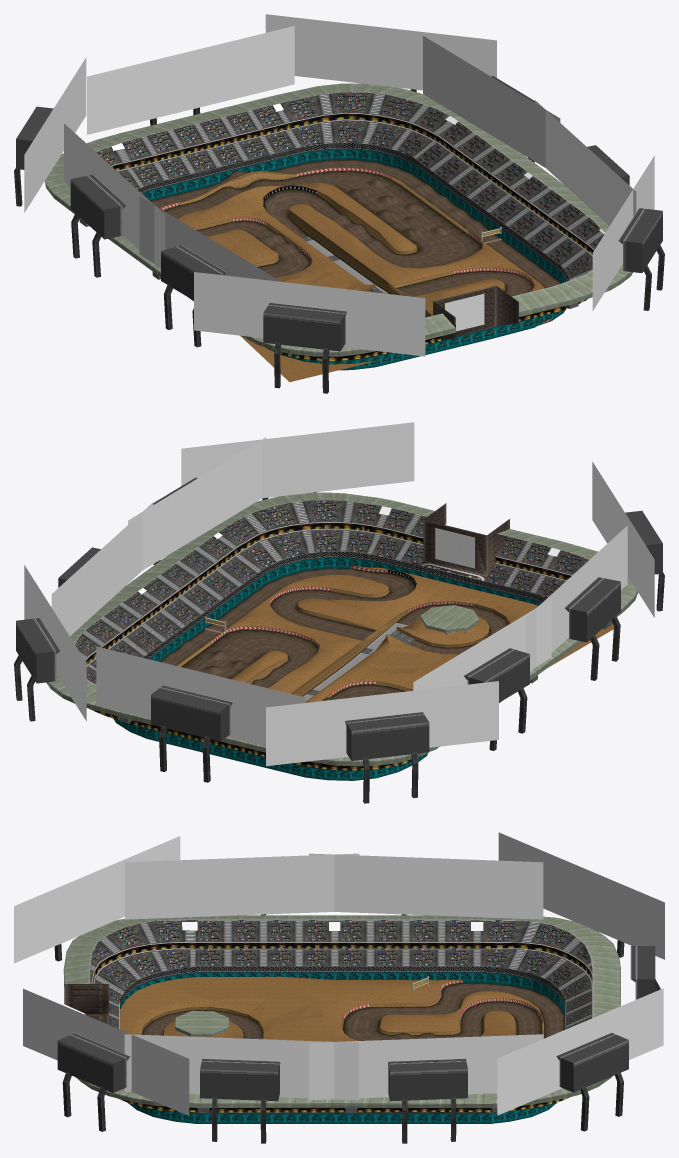
The picture shows the model from 3 angles, top to bottom: view 1: azimuth 30°, elevation 25°; view 2: azimuth 150°, elevation 25°; view 3: azimuth 270°, elevation 25°; orthographic projection. The views are drawn at different scales.
Parts seen in each view (by area): view 1: light.003, stands, dirtroad.001, rocky_top, lightbox, overhang, audience, wario_wall, rockwall.002, back, fence.015, tv (+3 smaller); view 2: light.003, stands, lightbox, rocky_top, dirtroad.001, overhang, wario_wall, audience, back, rockwall.002, tv, fence.015 (+3 smaller); view 3: light.003, stands, rocky_top, lightbox, overhang, wario_wall, dirtroad.001, audience, back, fence.015, tv, rockwall.002 (+1 smaller).
Boxes of the visible parts, left/top/right/bottom form: light.003: left=24, top=14, right=654, bottom=356; stands: left=14, top=89, right=664, bottom=393; dirtroad.001: left=150, top=159, right=561, bottom=317; rocky_top: left=160, top=182, right=548, bottom=382; lightbox: left=16, top=76, right=662, bottom=351; overhang: left=45, top=83, right=632, bottom=356; audience: left=96, top=92, right=600, bottom=356; wario_wall: left=141, top=148, right=567, bottom=370; rockwall.002: left=180, top=171, right=505, bottom=316; back: left=112, top=113, right=593, bottom=361; fence.015: left=137, top=142, right=568, bottom=280; tv: left=433, top=285, right=518, bottom=340; light.003: left=24, top=422, right=654, bottom=766; stands: left=14, top=492, right=664, bottom=803; lightbox: left=16, top=477, right=662, bottom=760; rocky_top: left=226, top=565, right=613, bottom=702; dirtroad.001: left=160, top=568, right=508, bottom=700; overhang: left=46, top=492, right=637, bottom=766; wario_wall: left=113, top=556, right=542, bottom=780; audience: left=76, top=500, right=579, bottom=768; back: left=85, top=523, right=571, bottom=770; rockwall.002: left=177, top=588, right=510, bottom=701; tv: left=421, top=503, right=509, bottom=580; fence.015: left=142, top=551, right=546, bottom=658; light.003: left=14, top=832, right=664, bottom=1115; stands: left=54, top=914, right=660, bottom=1143; rocky_top: left=120, top=976, right=541, bottom=1041; lightbox: left=57, top=946, right=655, bottom=1101; overhang: left=63, top=915, right=620, bottom=1107; wario_wall: left=120, top=971, right=565, bottom=1123; dirtroad.001: left=142, top=983, right=565, bottom=1040; audience: left=90, top=920, right=588, bottom=1112; back: left=92, top=942, right=592, bottom=1112; fence.015: left=120, top=966, right=565, bottom=1037; tv: left=64, top=984, right=115, bottom=1027; rockwall.002: left=141, top=999, right=544, bottom=1038.
Bounding box in the file's own units: 78807 × 18738 × 95678.
Materials: 26 (26 with a texture image).
